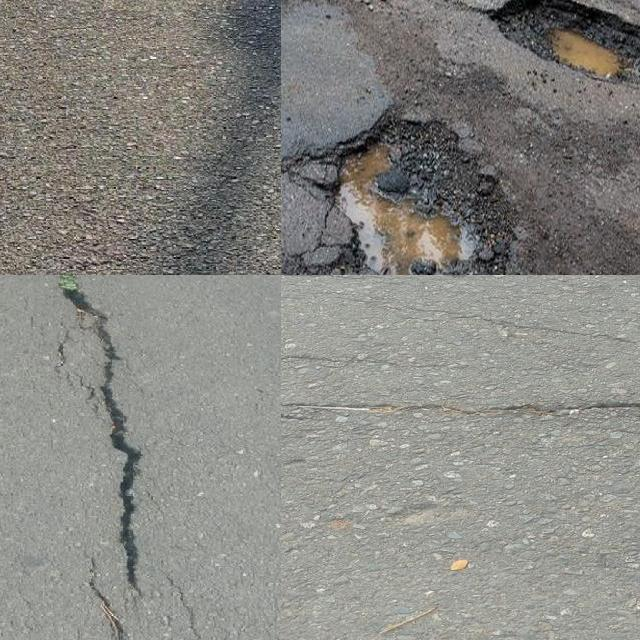Lubang: (311, 112, 518, 275), (501, 0, 640, 86)
Melintang: (281, 391, 640, 426)
Memanjang: (44, 275, 153, 618)
